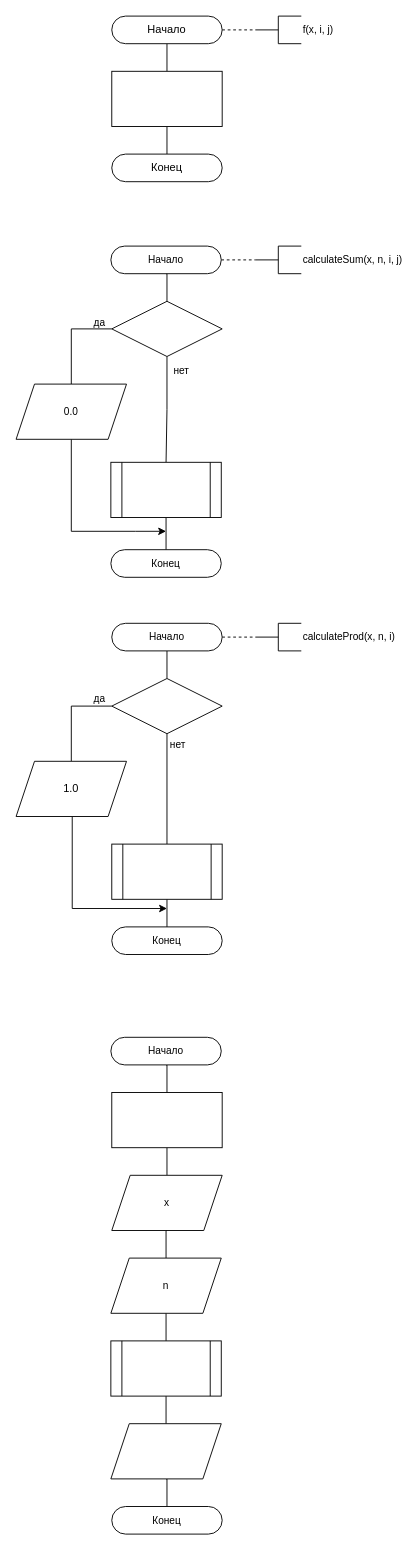
This 419x1550 diagram has some shape labels left out. Here are the shapes that lost their labels. From the top down, the centre of each, then its label:
(x=166, y=98): x * j * 2 + i
(x=166, y=328): j > n
(x=165, y=489): f(x, i, j) + calculateSum(x, n, i, j + 1)
(x=166, y=706): i > n
(x=166, y=871): calculateSum(x, n, i, 1) + calculateProd(x, n, i + 1)
(x=166, y=1120): x := 0, n := 0, i := 0
(x=165, y=1368): result := calculateProd(x, n, i)
(x=165, y=1451): result
